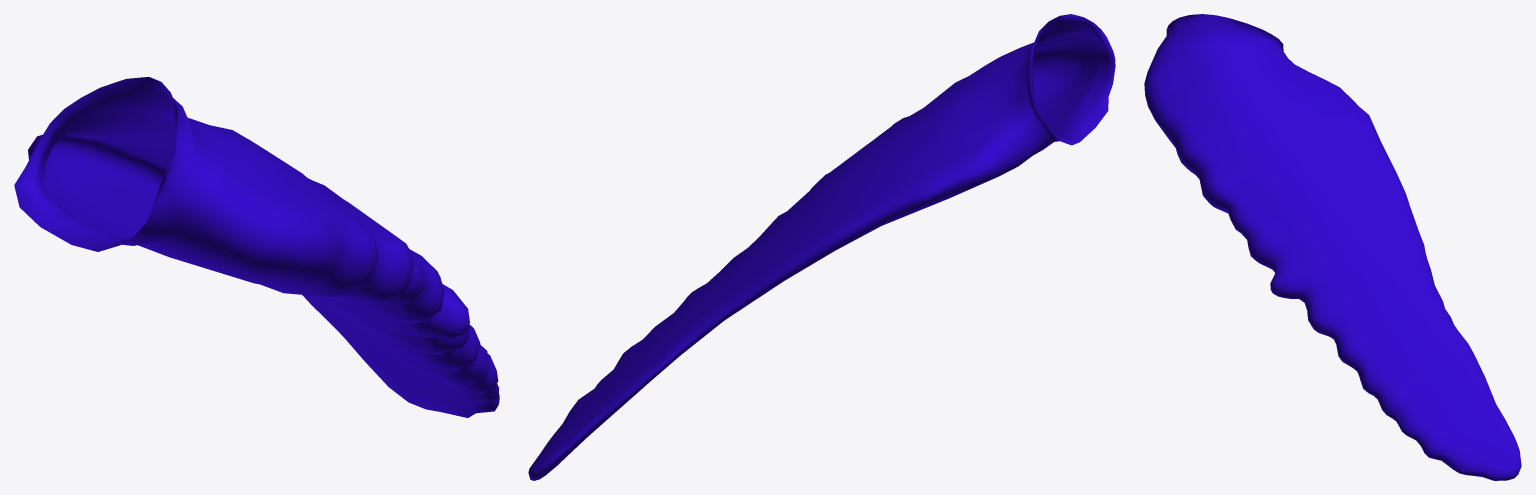
File: aletas_izq.obj
The picture shows the model from 3 angles, left to right: view 1: azimuth 30°, elevation 25°; view 2: azimuth 150°, elevation 25°; view 3: azimuth 270°, elevation 25°; orthographic projection. The views are drawn at different scales.
Parts seen in each view (by area): view 1: aleta_izq_humpback_whale.002; view 2: aleta_izq_humpback_whale.002; view 3: aleta_izq_humpback_whale.002.
Boxes of the visible parts, left/top/right/bottom form: aleta_izq_humpback_whale.002: left=14, top=77, right=499, bottom=417; aleta_izq_humpback_whale.002: left=528, top=14, right=1115, bottom=480; aleta_izq_humpback_whale.002: left=1144, top=14, right=1521, bottom=480.
Bounding box in the file's own units: 105 × 102 × 105.
